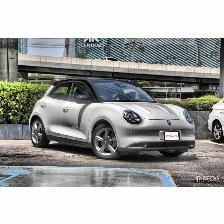EV: (29, 76, 199, 160)
